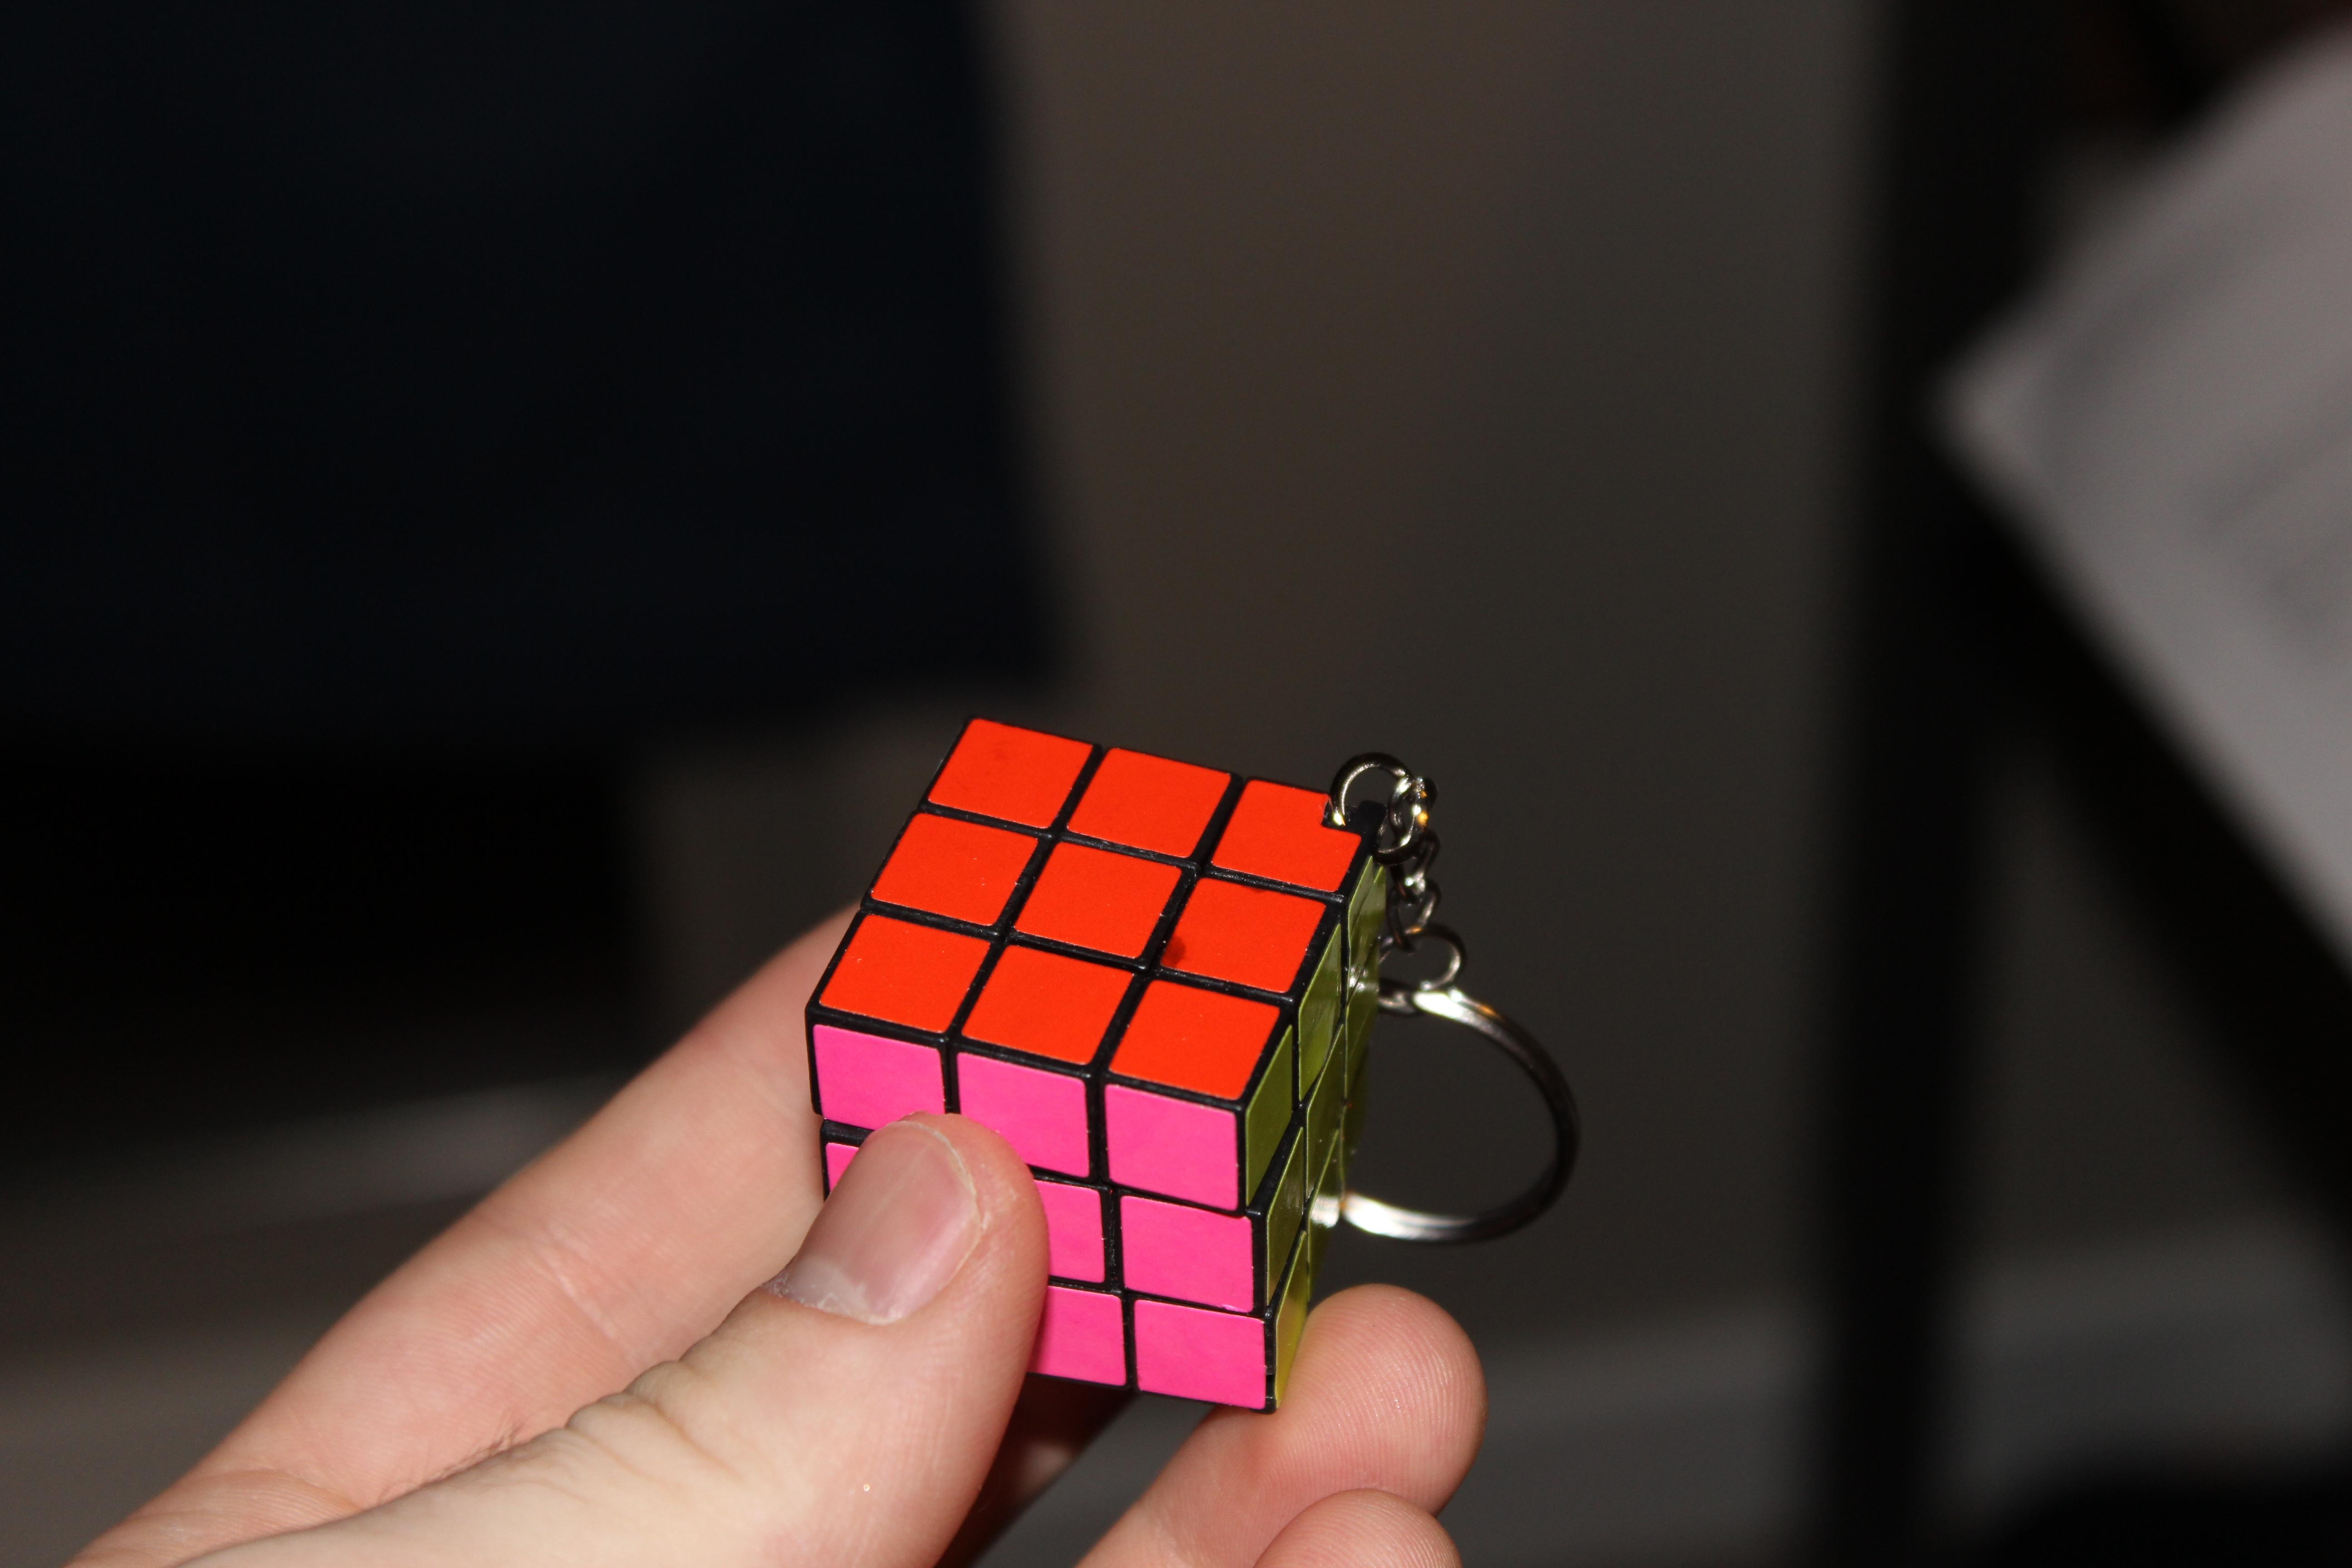rubiksCube: (763, 663, 1444, 1449)
